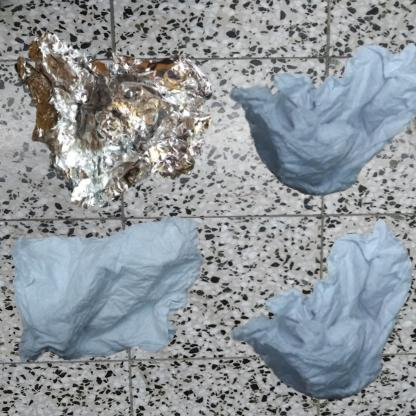aluminio: (10, 10, 229, 219)
papel: (213, 10, 416, 220), (213, 213, 416, 416), (10, 213, 209, 364)
